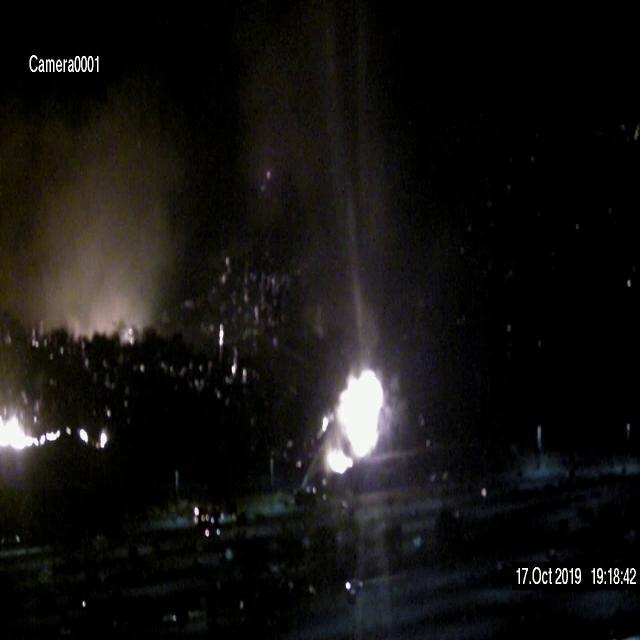Fire: (321, 364, 384, 476), (2, 410, 60, 456)
Smoke: (20, 154, 174, 348)
